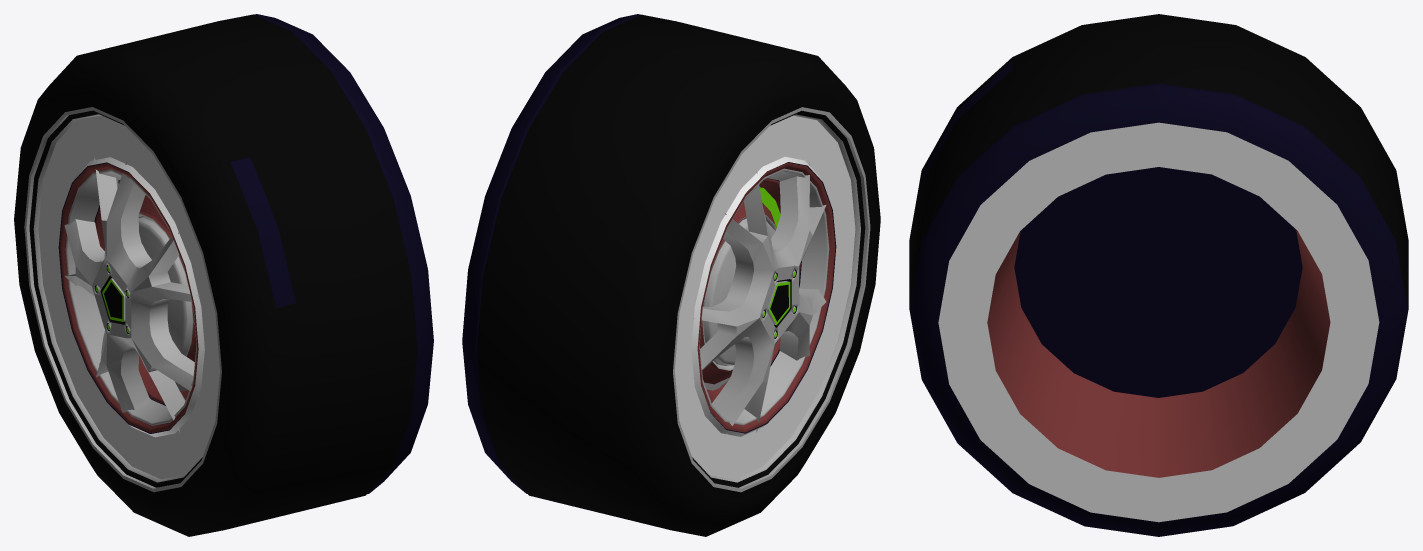
Rendered from obj_wheelsPack002.fbx.
3 renders of one model, left to right at view 1: azimuth 30°, elevation 25°; view 2: azimuth 150°, elevation 25°; view 3: azimuth 270°, elevation 25°, orthographic.
Visible parts, largest first — view 1: obj_wheel_flutts, obj_wheel_ligthYear; view 2: obj_wheel_flutts, obj_wheel_ligthYear; view 3: obj_wheel_ligthYear, obj_wheel_flutts.
Boxes of the visible parts, x1=… form: obj_wheel_flutts: x1=14, y1=14, x2=417, y2=536; obj_wheel_ligthYear: x1=38, y1=14, x2=433, y2=494; obj_wheel_flutts: x1=477, y1=14, x2=880, y2=536; obj_wheel_ligthYear: x1=462, y1=14, x2=855, y2=493; obj_wheel_ligthYear: x1=910, y1=61, x2=1407, y2=536; obj_wheel_flutts: x1=909, y1=14, x2=1408, y2=442.
Bounding box in the file's own units: 0.3141 × 0.6578 × 0.6578.
